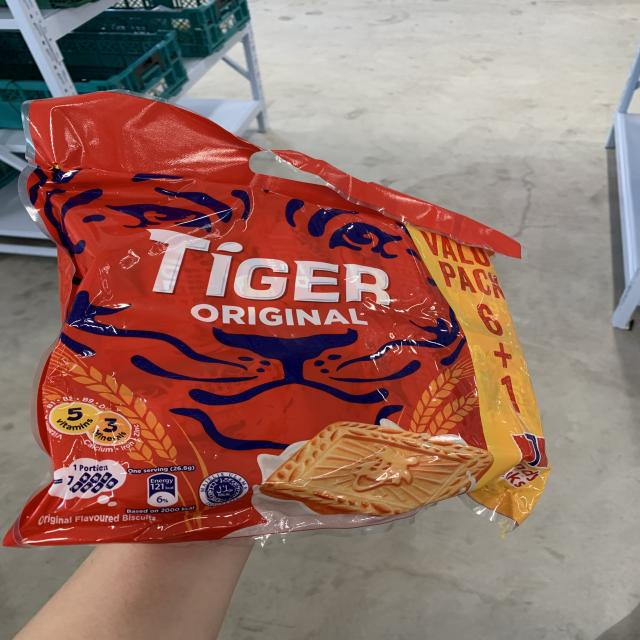object_name: (35, 119, 539, 532)
